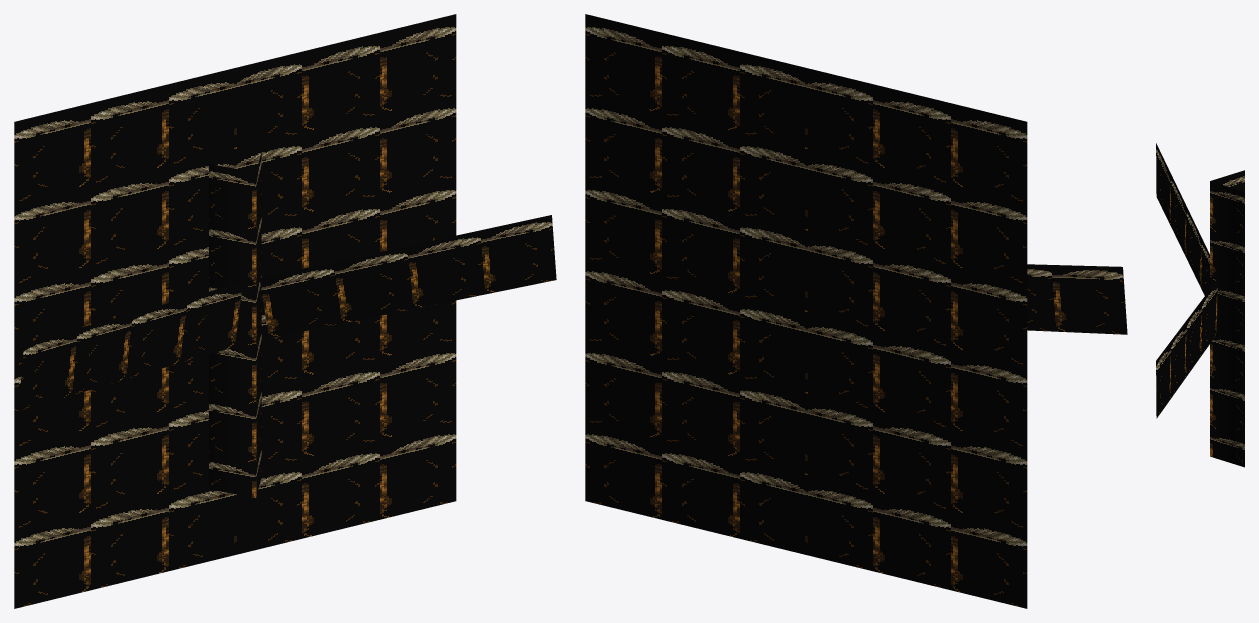
Rendered from 5035musi45_e.gltf.
The picture shows the model from 3 angles, left to right: view 1: azimuth 30°, elevation 25°; view 2: azimuth 150°, elevation 25°; view 3: azimuth 270°, elevation 25°; orthographic projection. The views are drawn at different scales.
Parts seen in each view (by area): view 1: 5035musi45_e; view 2: 5035musi45_e; view 3: 5035musi45_e.
Part boxes in pixels (x1=…): 5035musi45_e: x1=14, y1=14, x2=556, y2=608; 5035musi45_e: x1=585, y1=14, x2=1127, y2=608; 5035musi45_e: x1=1156, y1=143, x2=1244, y2=467.
Bounding box in the file's own units: 0.2686 × 0.2324 × 0.0454.
1 material, 1 textured.
